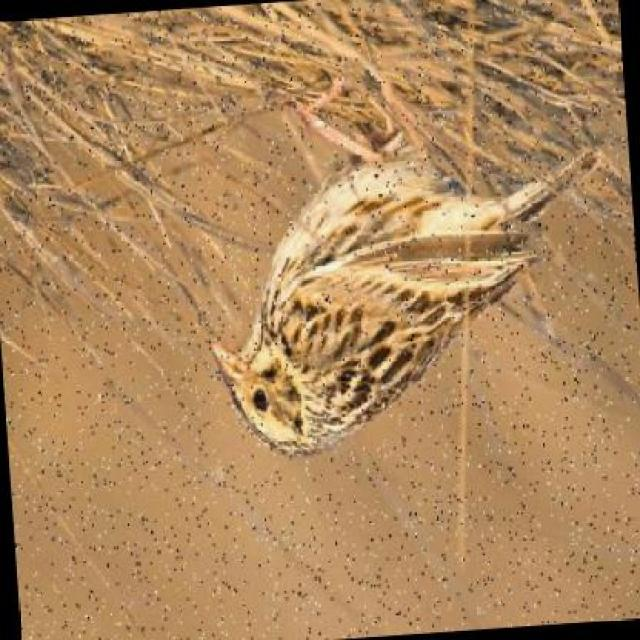Bird: (208, 136, 612, 461)
